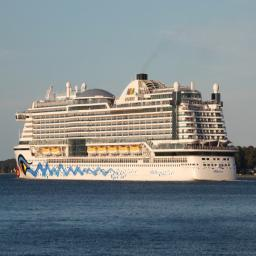cruises: (13, 70, 240, 184)
